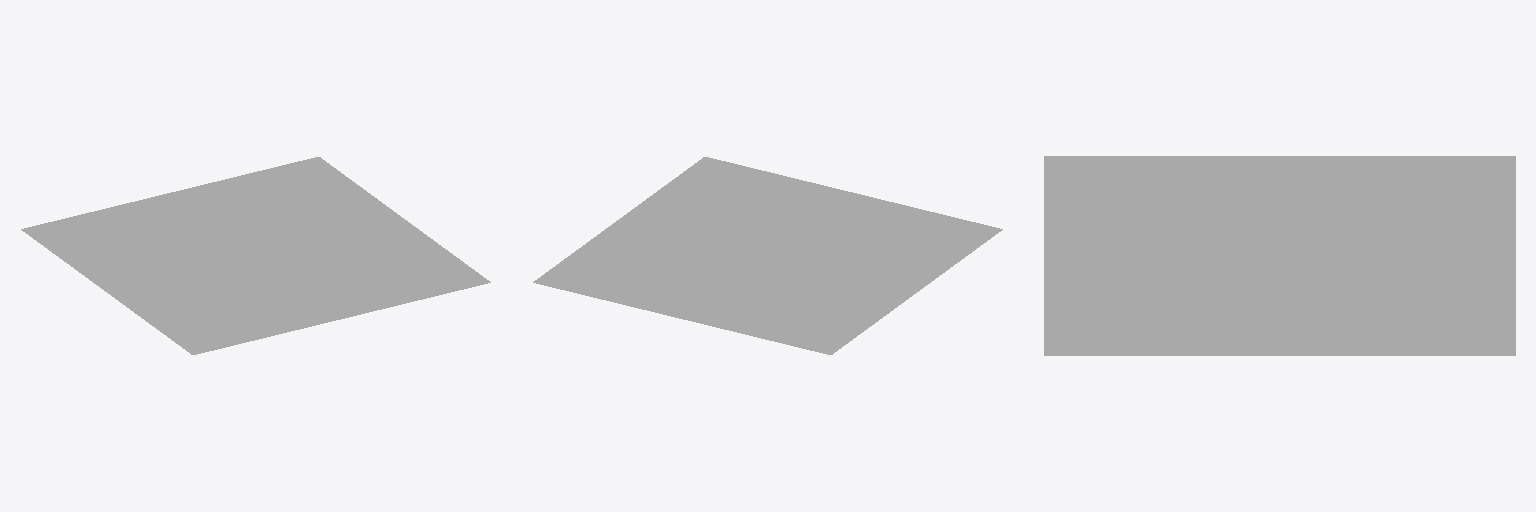
URDF robot description (plane_medium):
<?xml version="1.0" ?>
<robot name="plane_medium">

  <material name="steel">
    <color rgba="0.75 0.75 0.75 1"/>
  </material>

  <link name="plane">

    <visual>
      <origin rpy="0 0 0" xyz="0 0 0"/>
      <geometry>
        <mesh filename="plane.obj" scale="10 10 1"/>
      </geometry>
      <material name = "steel"/>
    </visual>

    <collision>
      <origin rpy="0 0 0" xyz="0 0 -0.5"/>
      <geometry>
        <box size="10 10 1"/>
      </geometry>
    </collision>

    <inertial>
      <origin rpy="0 0 0" xyz="0 0 0"/>
      <mass value="0"/>
      <inertia ixx="0" ixy="0" ixz="0" iyy="0" iyz="0" izz="0"/>
    </inertial>

  </link>
</robot>

--- What the picture shows (computed from the rendered views, not written in the file) ---
3 views of the same robot in one strip: view 1: azimuth 30°, elevation 25°; view 2: azimuth 150°, elevation 25°; view 3: azimuth 270°, elevation 25° (orthographic).
Robot: plane_medium — 1 links, 0 joints (none); root link plane; default pose: every joint at zero.
Links seen in each view (by area): view 1: plane; view 2: plane; view 3: plane.
Link boxes in pixels (<box>): plane: <box>21,157,490,354</box>; plane: <box>533,157,1002,354</box>; plane: <box>1044,156,1515,355</box>.
Size in the robot's own frame: 10 by 10 by 0 metres.
Meshes: 1 distinct files referenced, 1 mesh visuals loaded (1 OBJ).
